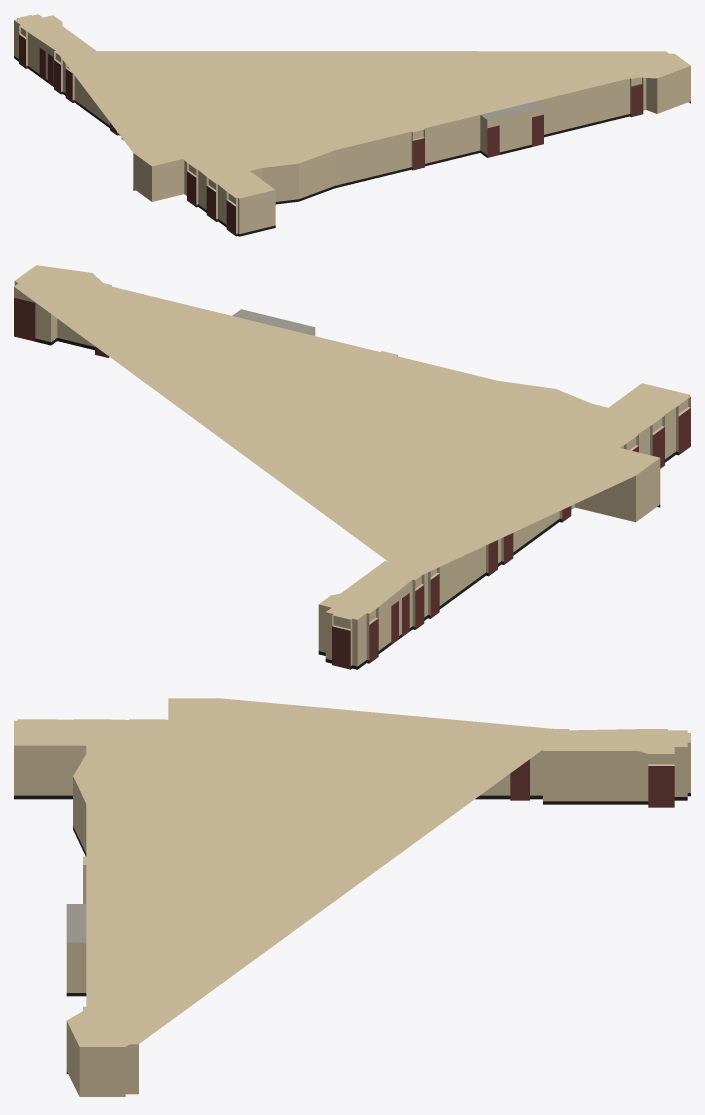
Rendered from IRGLM4thFloorWalls.fbx.
The picture shows the model from 3 angles, top to bottom: view 1: azimuth 30°, elevation 25°; view 2: azimuth 150°, elevation 25°; view 3: azimuth 270°, elevation 25°; orthographic projection. The views are drawn at different scales.
Visible parts, largest first — view 1: Walls; view 2: Walls; view 3: Walls.
Part boxes in pixels (x1=…): Walls: x1=14, y1=14, x2=690, y2=236; Walls: x1=14, y1=265, x2=690, y2=669; Walls: x1=14, y1=698, x2=690, y2=1096.
Size of the model in its own units: 3825 by 274 by 3139.
